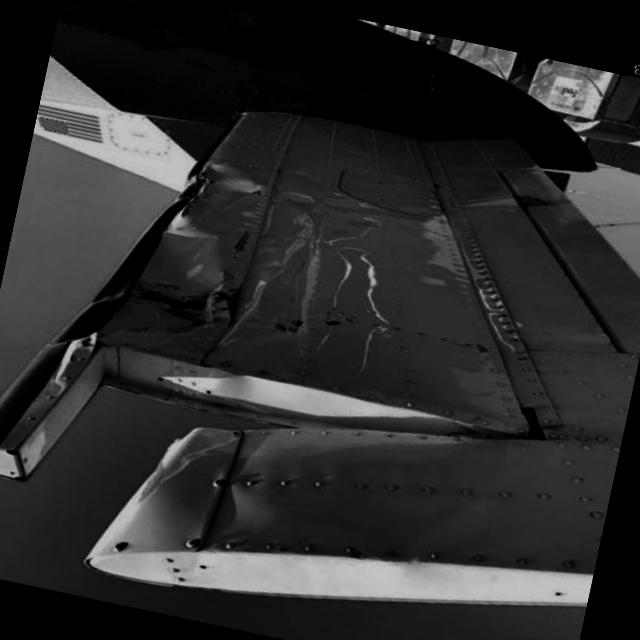dent: (193, 151, 280, 214)
